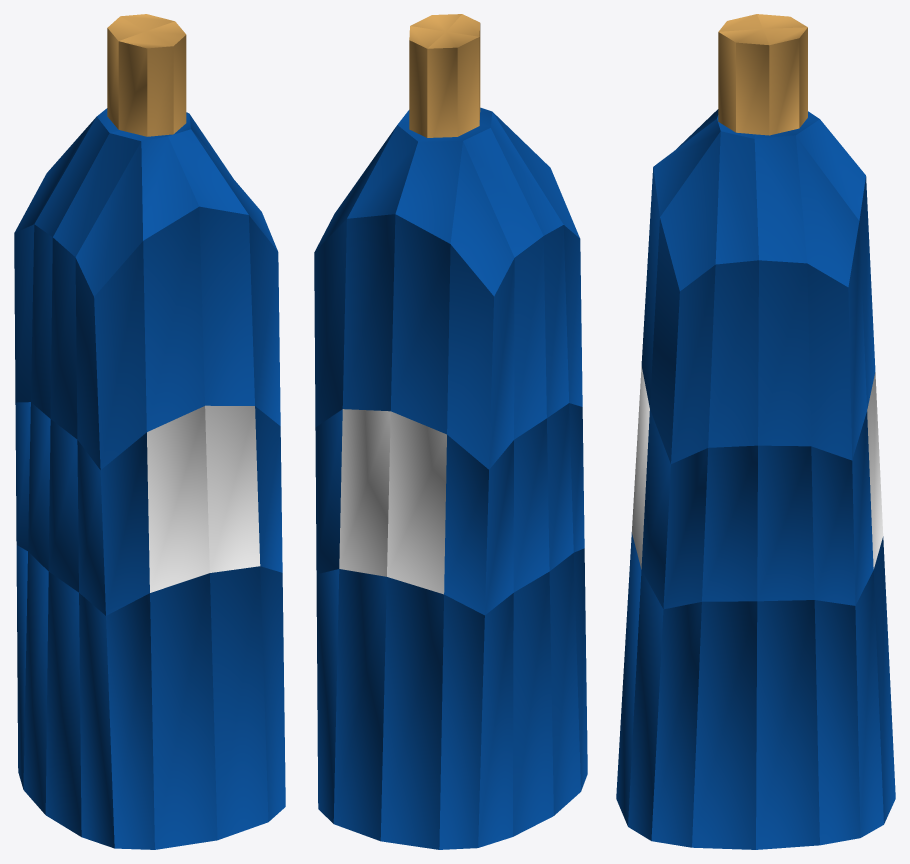
File: Bottle.1.fbx
3 renders of one model, left to right at view 1: azimuth 30°, elevation 25°; view 2: azimuth 150°, elevation 25°; view 3: azimuth 270°, elevation 25°, orthographic.
Parts seen in each view (by area): view 1: Bottle.1; view 2: Bottle.1; view 3: Bottle.1.
Boxes of the visible parts, x1,y1,x2,y2 form: Bottle.1: (14,14,285,849); Bottle.1: (314,14,587,849); Bottle.1: (616,14,895,849).
Bounding box in the file's own units: 11.91 × 41.66 × 13.71.
